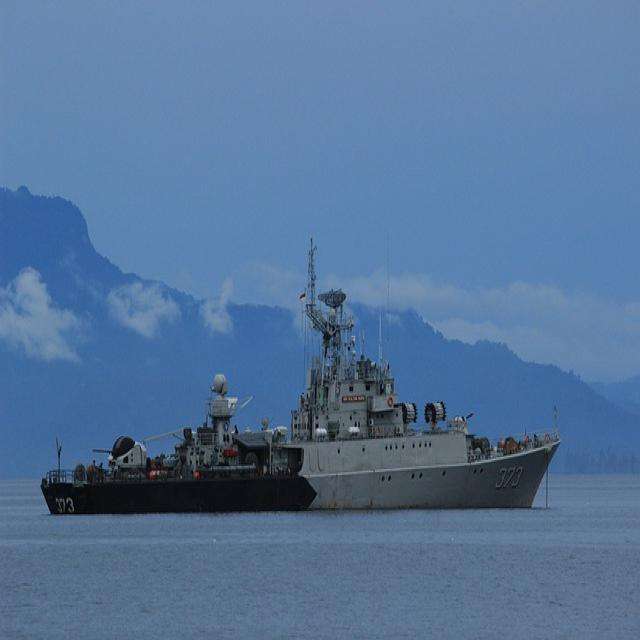Military: (286, 238, 561, 510), (40, 375, 319, 516)
